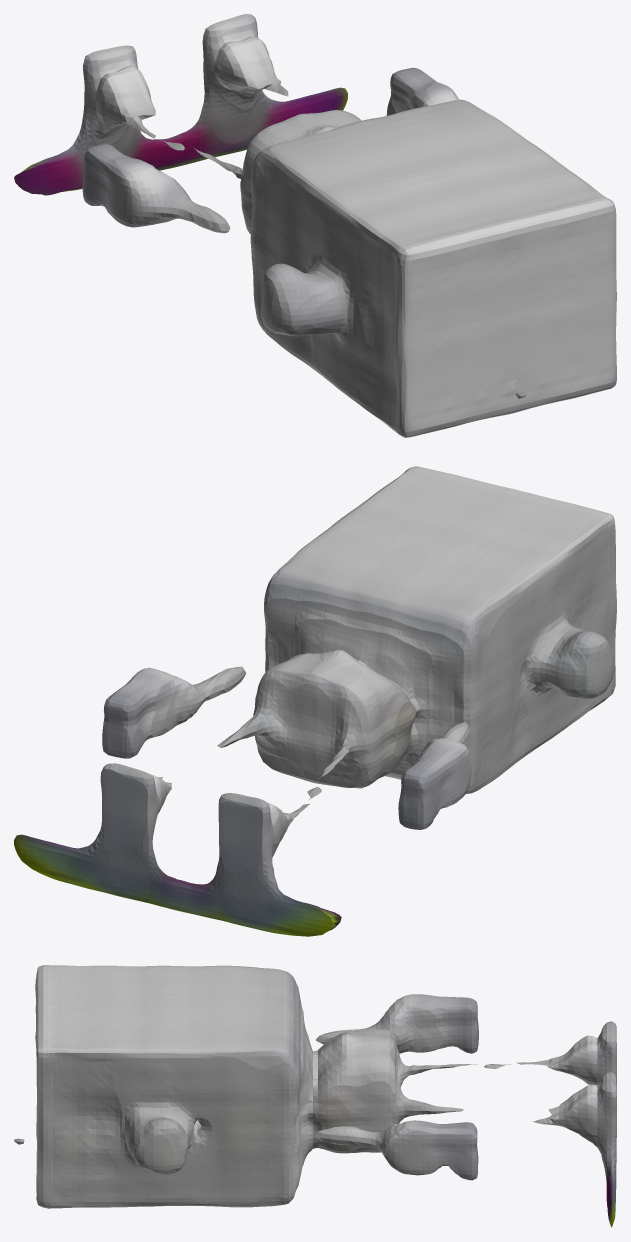
File: a_robot_snowboard.glb
3 renders of one model, top to bottom at view 1: azimuth 30°, elevation 25°; view 2: azimuth 150°, elevation 25°; view 3: azimuth 270°, elevation 25°, orthographic. The views are drawn at different scales.
Parts seen in each view (by area): view 1: 0.ply; view 2: 0.ply; view 3: 0.ply.
Part boxes in pixels (x1,y1,x2,y2): 0.ply: (14, 14, 616, 437); 0.ply: (14, 466, 616, 936); 0.ply: (14, 965, 616, 1227).
Size of the model in its own units: 1.09 by 0.5769 by 1.94.
